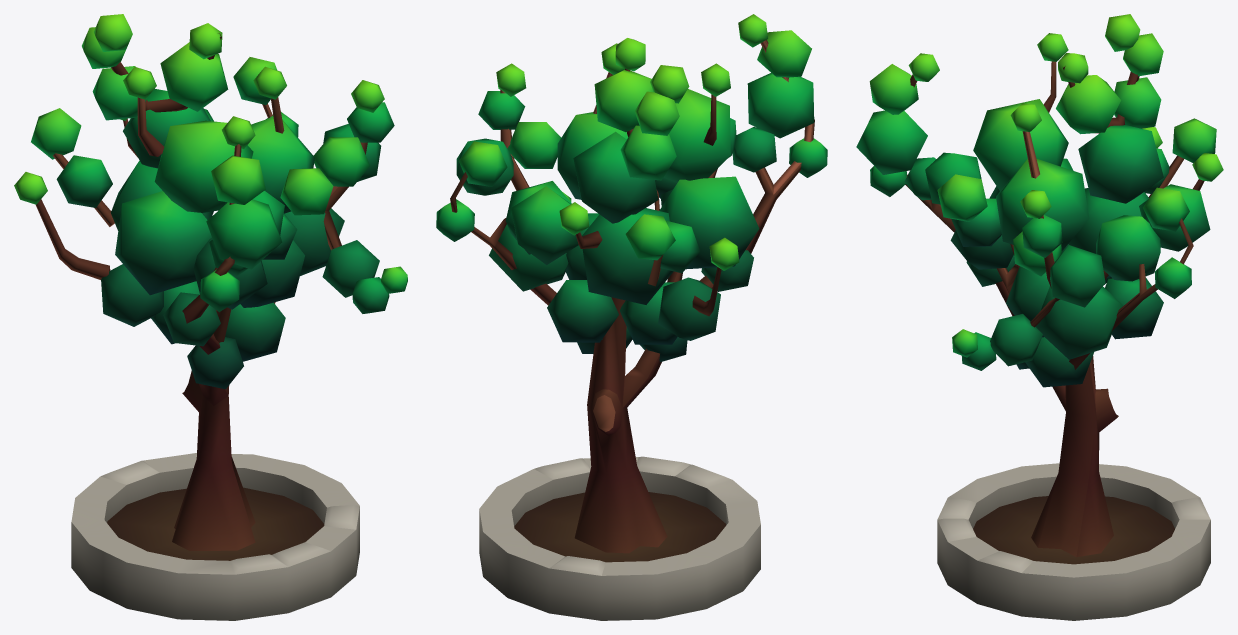
File: Tree_1E.fbx
3 views of the same model, side by side, from view 1: azimuth 30°, elevation 25°; view 2: azimuth 150°, elevation 25°; view 3: azimuth 270°, elevation 25° (orthographic). The views are drawn at different scales.
Visible parts, largest first — view 1: Tree_1E; view 2: Tree_1E; view 3: Tree_1E.
Part boxes in pixels (x1,y1,x2,y2): Tree_1E: (14, 14, 407, 620); Tree_1E: (436, 14, 827, 620); Tree_1E: (856, 14, 1223, 620).
Size of the model in its own units: 5.17 by 8.25 by 5.37.
